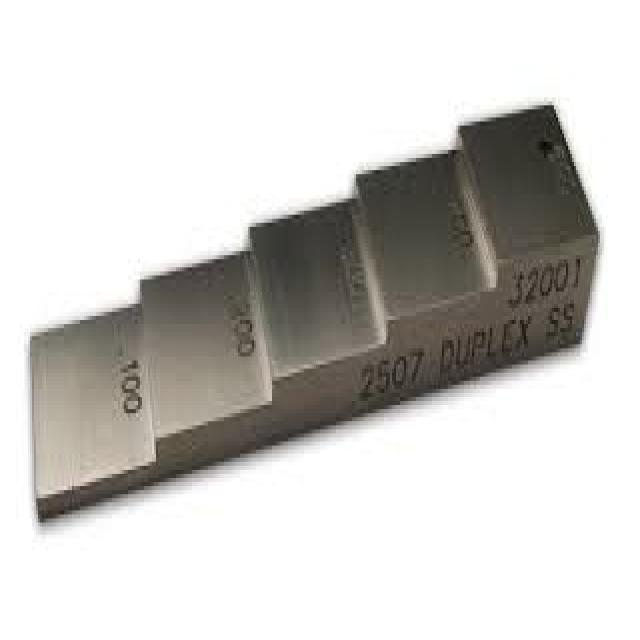Milling: (21, 75, 639, 486)
